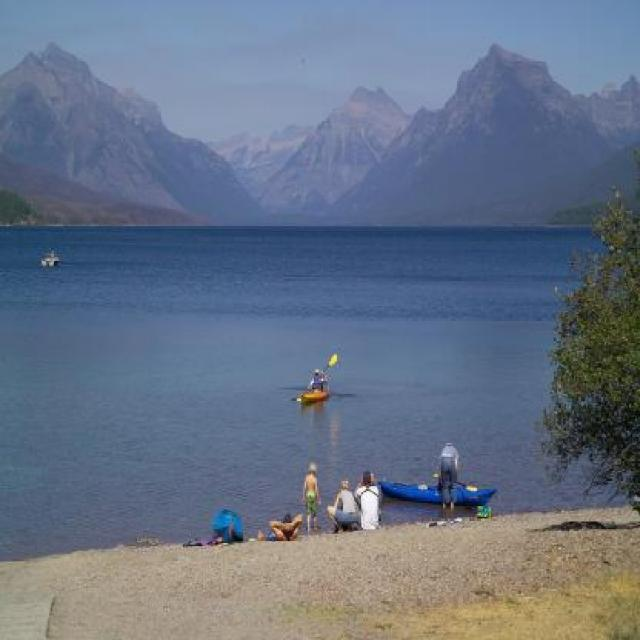ship: (378, 482, 498, 504), (297, 384, 331, 402), (40, 248, 57, 267)
